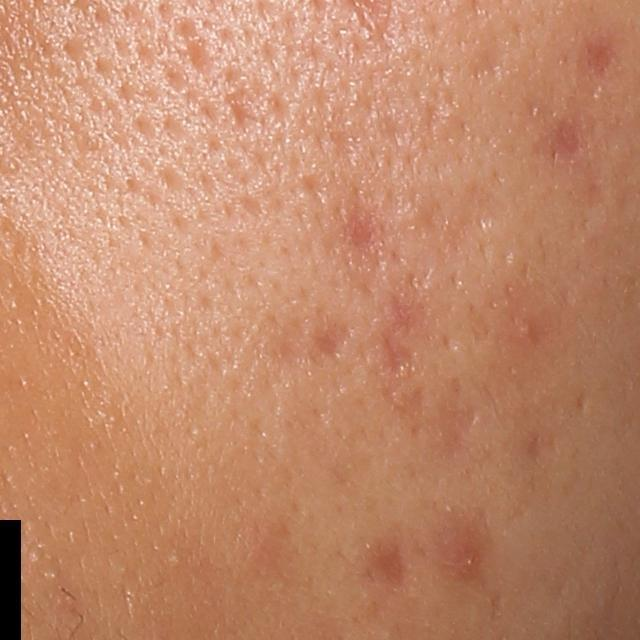atrophic_scar: (343, 203, 392, 268), (311, 303, 356, 368), (218, 63, 258, 132), (546, 109, 592, 165), (167, 19, 209, 78), (384, 334, 413, 380), (575, 391, 590, 412)
